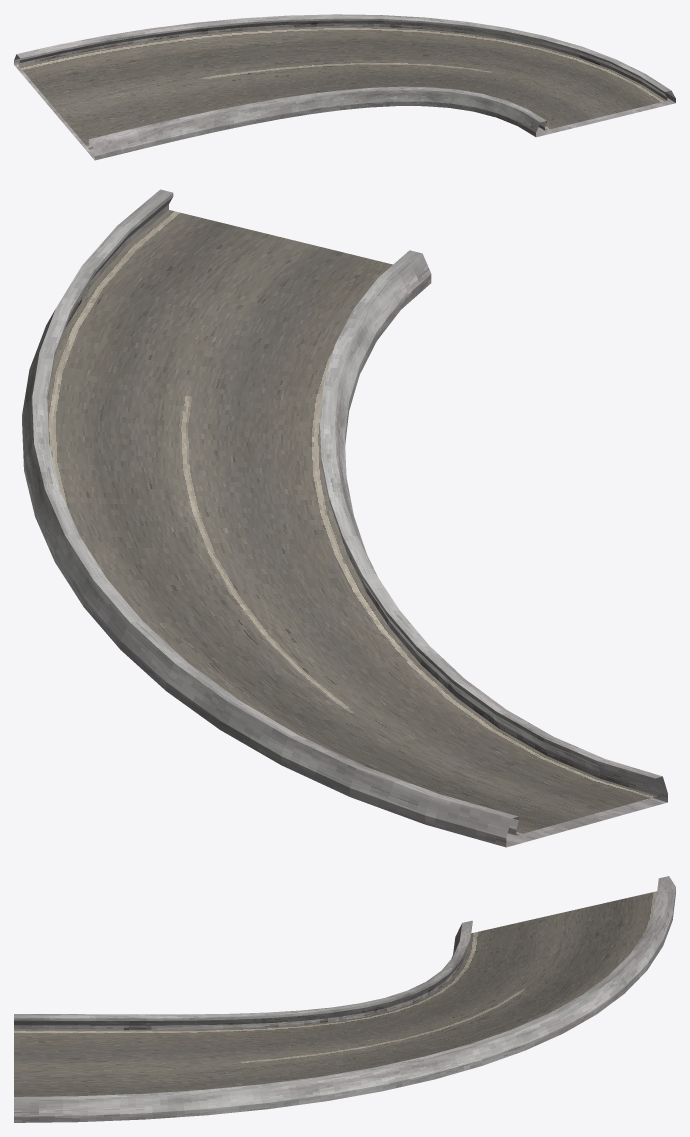
The model's file is turn-left3x3.glb.
The picture shows the model from 3 angles, top to bottom: view 1: azimuth 30°, elevation 25°; view 2: azimuth 150°, elevation 25°; view 3: azimuth 270°, elevation 25°; orthographic projection. The views are drawn at different scales.
Parts seen in each view (by area): view 1: road-Turn-Flat-HalfBankedLeft-Down2-Left-Size3; view 2: road-Turn-Flat-HalfBankedLeft-Down2-Left-Size3; view 3: road-Turn-Flat-HalfBankedLeft-Down2-Left-Size3.
Part boxes in pixels (left/top/right/bottom): road-Turn-Flat-HalfBankedLeft-Down2-Left-Size3: left=14, top=14, right=675, bottom=160; road-Turn-Flat-HalfBankedLeft-Down2-Left-Size3: left=22, top=189, right=667, bottom=847; road-Turn-Flat-HalfBankedLeft-Down2-Left-Size3: left=14, top=876, right=675, bottom=1122.
Bounding box in the file's own units: 3 × 0.5938 × 3.
Materials: 2 (2 with a texture image).
